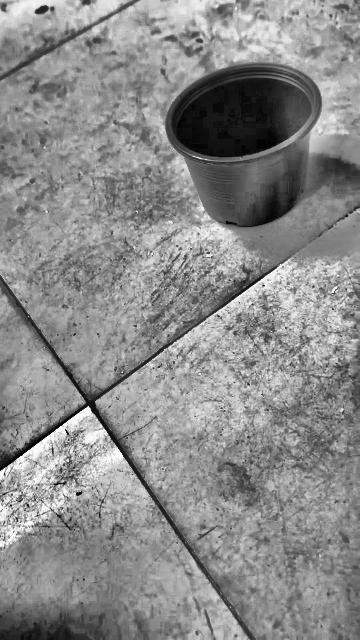pot: (165, 63, 323, 227)
